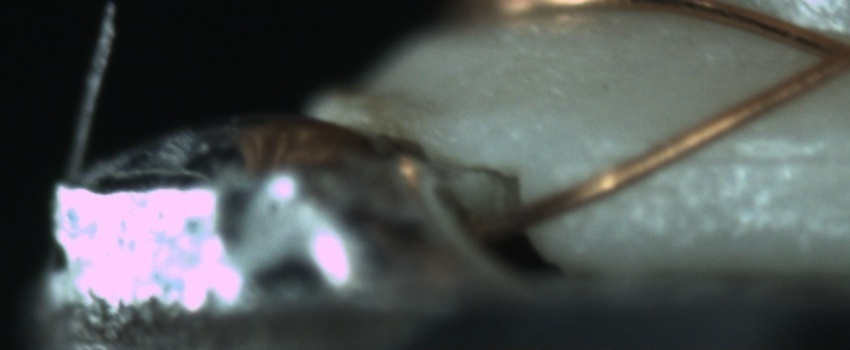CL: (795, 25, 849, 88)
DL: (639, 126, 848, 188)
